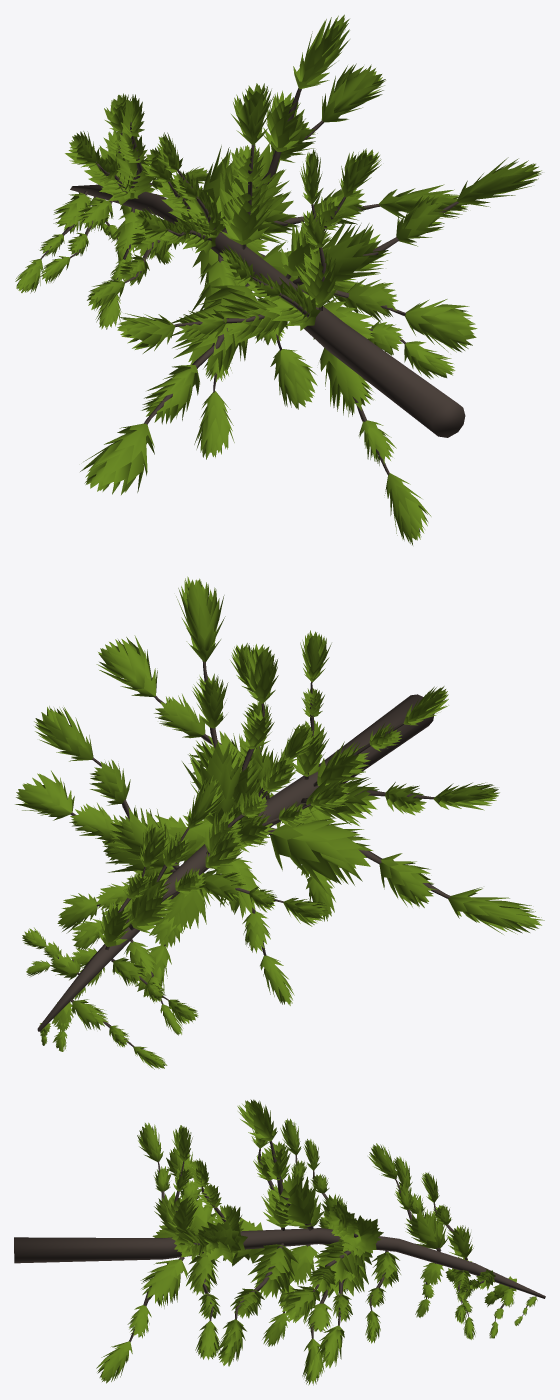
File: Arbol1Opt.fbx
3 views of the same model, one above another, from view 1: azimuth 30°, elevation 25°; view 2: azimuth 150°, elevation 25°; view 3: azimuth 270°, elevation 25° (orthographic). The views are drawn at different scales.
Visible parts, largest first — view 1: A1.013; view 2: A1.013; view 3: A1.013.
Boxes of the visible parts, left/top/right/bottom form: A1.013: left=15, top=14, right=542, bottom=545; A1.013: left=15, top=576, right=544, bottom=1069; A1.013: left=14, top=1099, right=545, bottom=1385.
Size of the model in its own units: 16.09 by 14.17 by 23.05.
